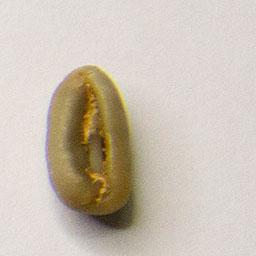longberry: (41, 61, 136, 219)
